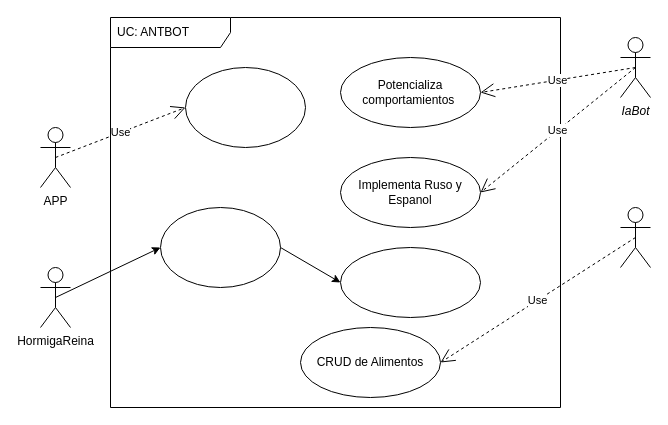
Some shapes in this 668 by 425 pixel diagram are drawn without their labels. Here are the shapes that lost their labels. From the top down, the centre of each, then its label:
At (x=245, y=107): "Crea 5 diferentes tipos de Hormiga".
At (x=220, y=247): "Crea Larvas que tendrán diferentes tipos de alimentos".
At (x=635, y=237): "DB".
At (x=410, y=282): "Comer y recoger comida".
